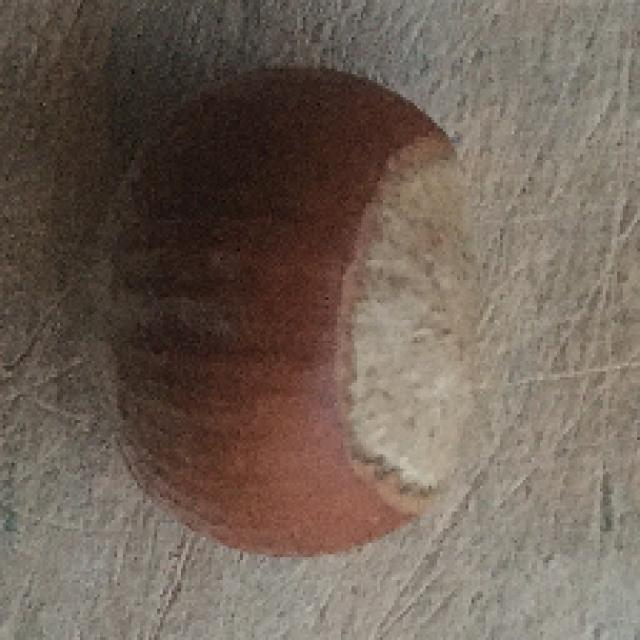QualityHazelnut: (90, 57, 484, 563)
